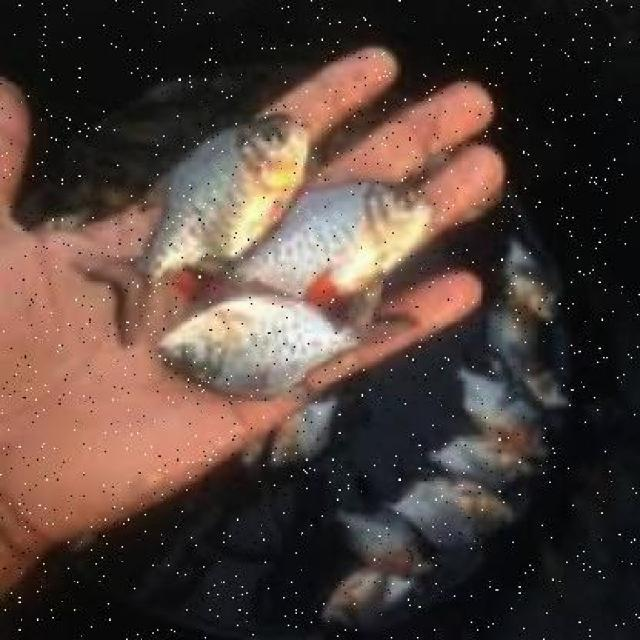ikan-pacu: (107, 109, 310, 291), (153, 294, 379, 392), (240, 185, 428, 292)
